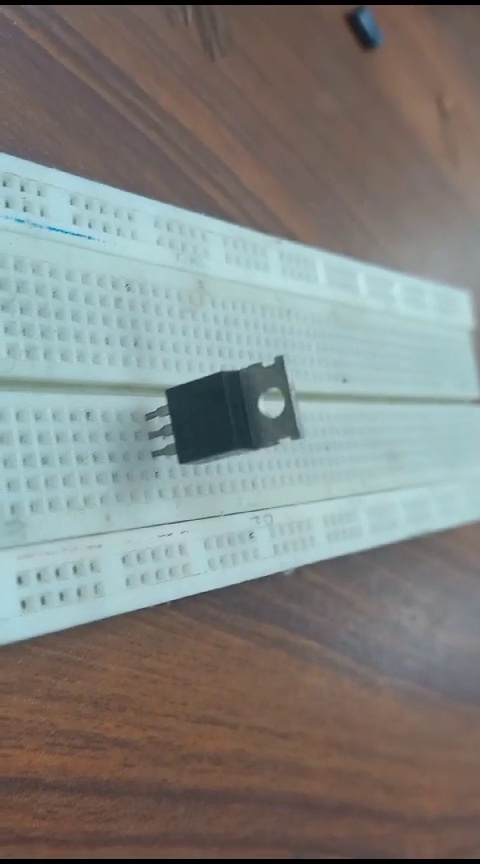voltage regulator: (136, 356, 301, 477)
